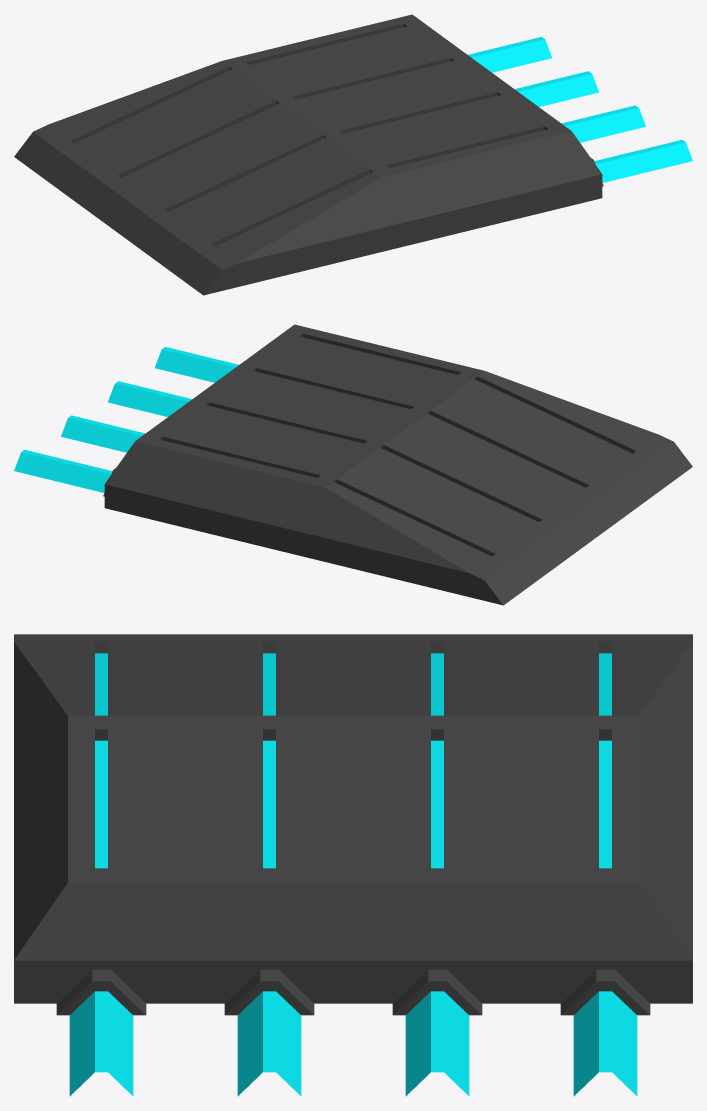
Rendered from Deco Wire Start.fbx.
The picture shows the model from 3 angles, top to bottom: view 1: azimuth 30°, elevation 25°; view 2: azimuth 150°, elevation 25°; view 3: azimuth 270°, elevation 25°; orthographic projection. The views are drawn at different scales.
Visible parts, largest first — view 1: Deco Wire Start; view 2: Deco Wire Start; view 3: Deco Wire Start.
Part boxes in pixels (bbox=[...]): Deco Wire Start: bbox=[14, 14, 692, 295]; Deco Wire Start: bbox=[14, 324, 692, 605]; Deco Wire Start: bbox=[14, 634, 692, 1096].
Bounding box in the file's own units: 124 × 14.17 × 80.83.
